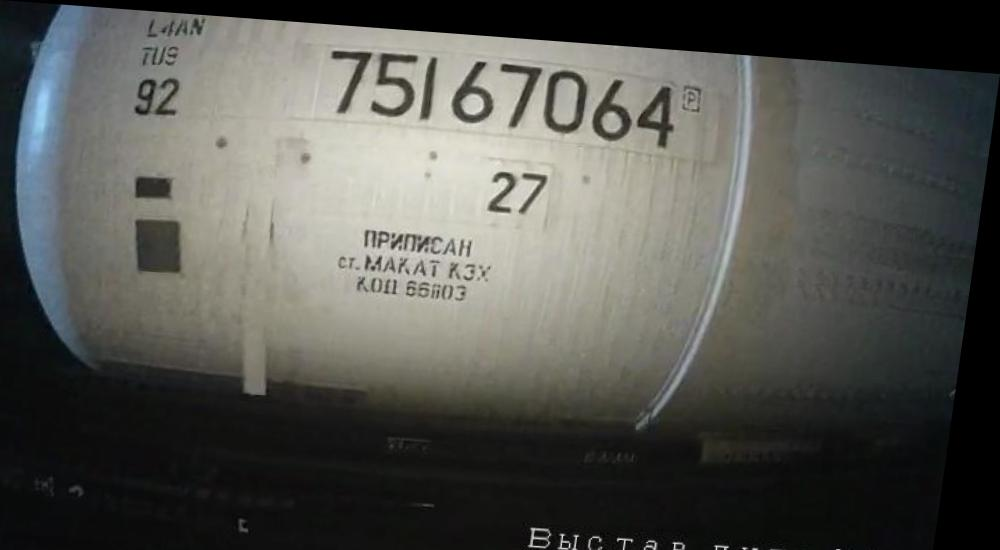Wagon-number: (321, 39, 688, 144)
